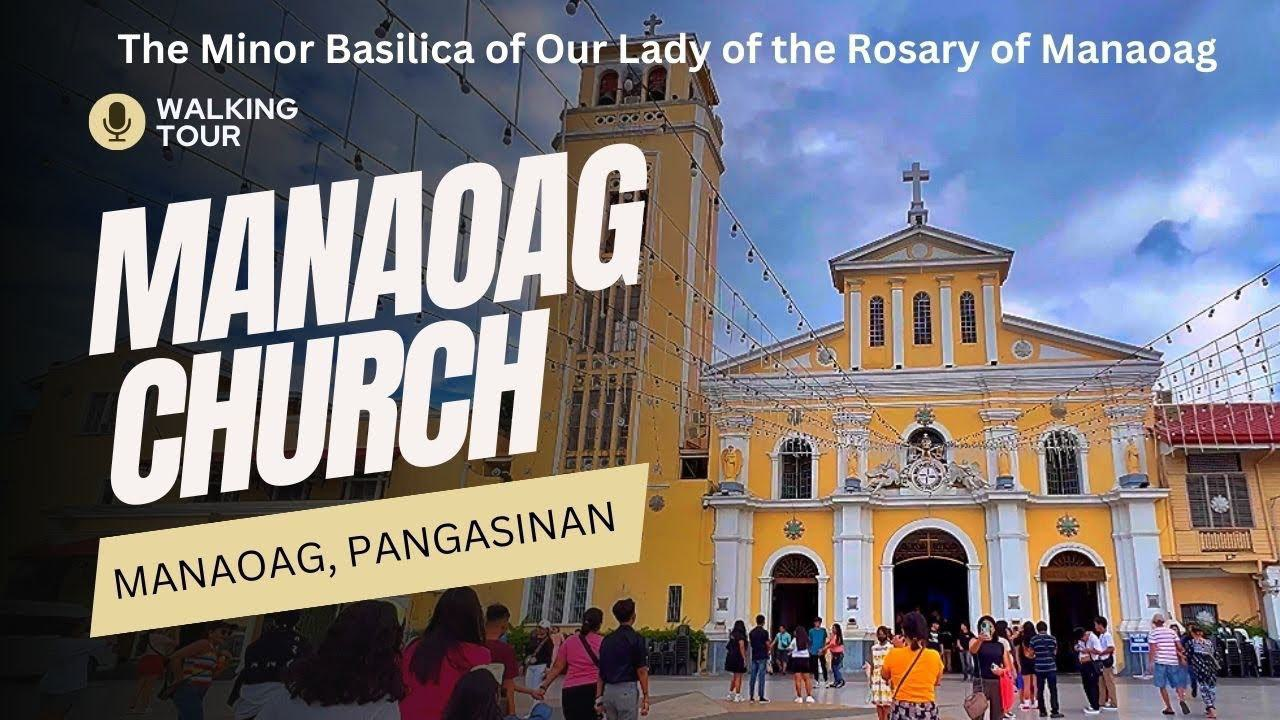manaoag_church_manaoag_pangasinan: (515, 10, 1180, 675)
